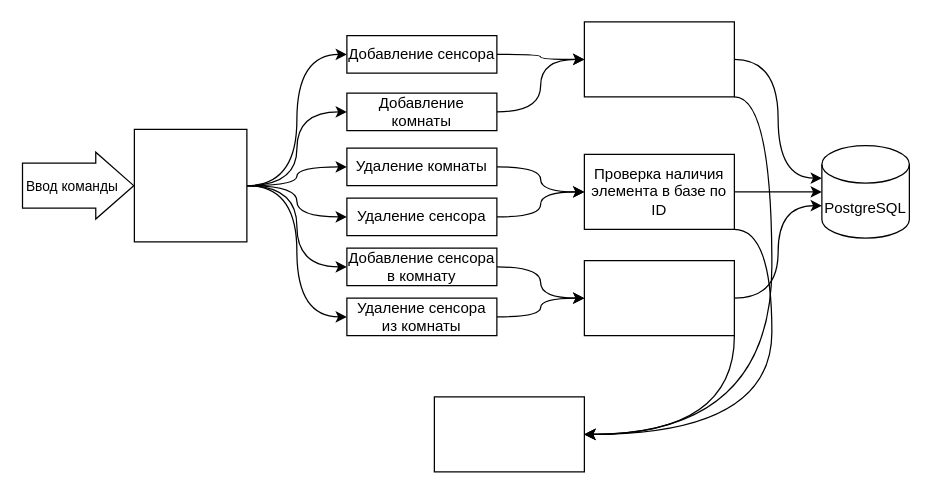
The diagram is 931 pixels wide and 494 high, and some of its shapes have lost their labels. The shapes that lost their labels are listed below. From the top down, each one's centre as x and y in pixels, then its label:
At (658,59): "Проверка наличия элемента в базе по имени".
At (190,185): "распознавание вводимой команды".
At (658,297): "Проверка существования и принадлежания к другой комнате".
At (508,434): "Формирование ответа".
